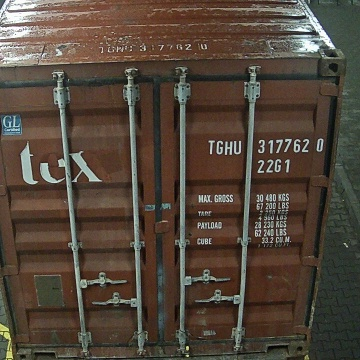serial_id: (208, 138, 324, 154)
